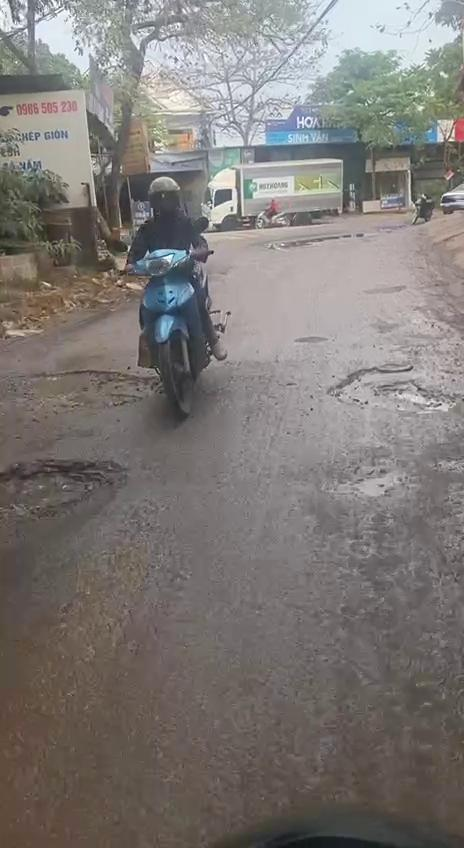pothole: (0, 454, 139, 553), (323, 358, 457, 421), (10, 364, 170, 412), (318, 464, 411, 502)
